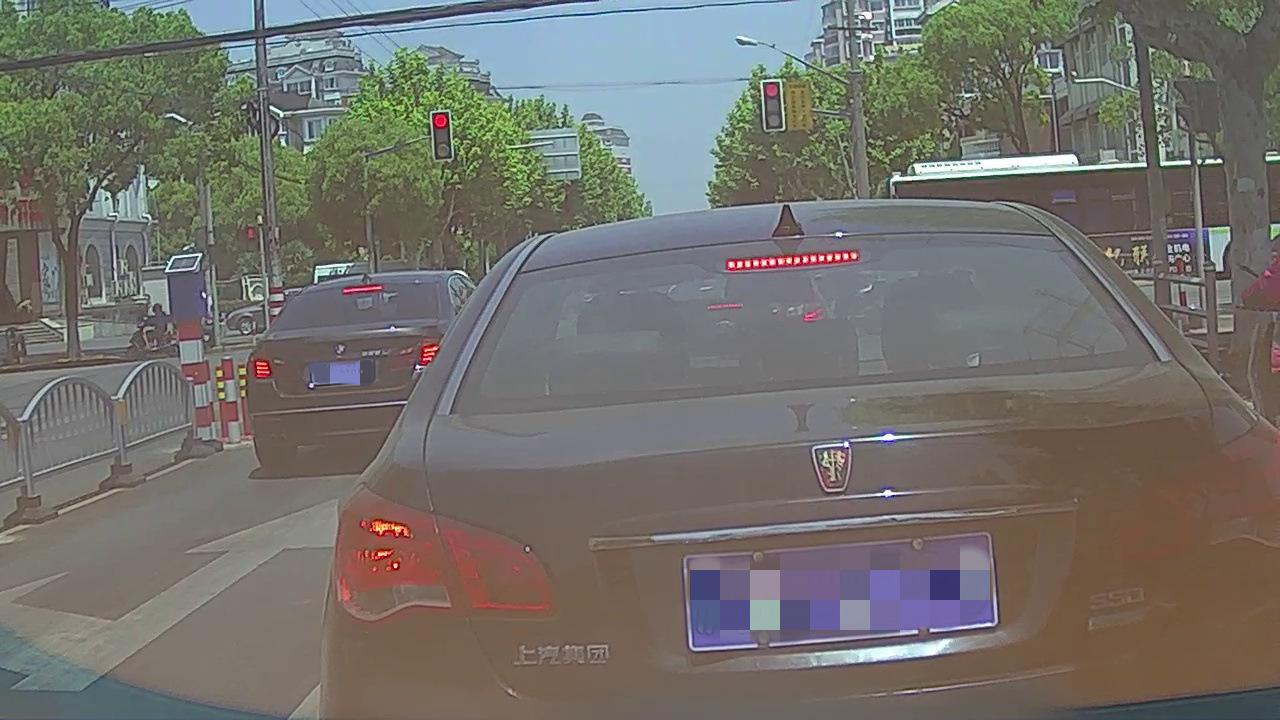traffic_light: (432, 112, 453, 160), (762, 81, 782, 131)
